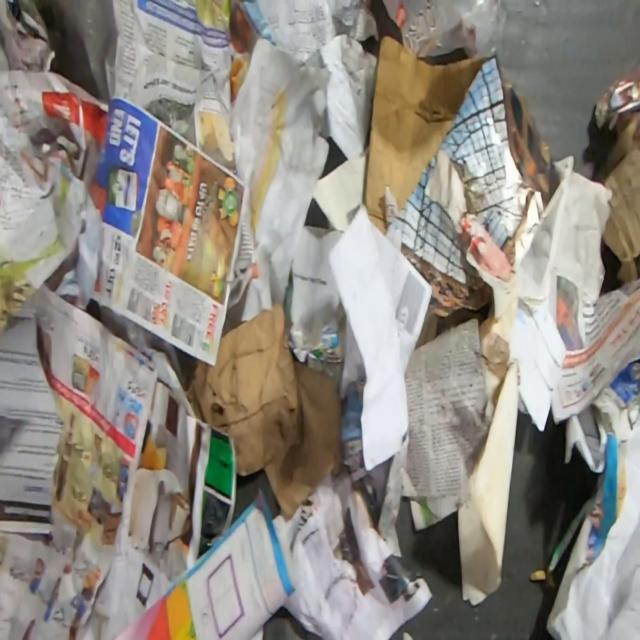cardboard: (182, 300, 345, 521), (362, 33, 491, 236), (284, 223, 348, 379), (592, 110, 640, 285), (592, 54, 640, 137)
soft_plastic: (382, 0, 509, 58)
